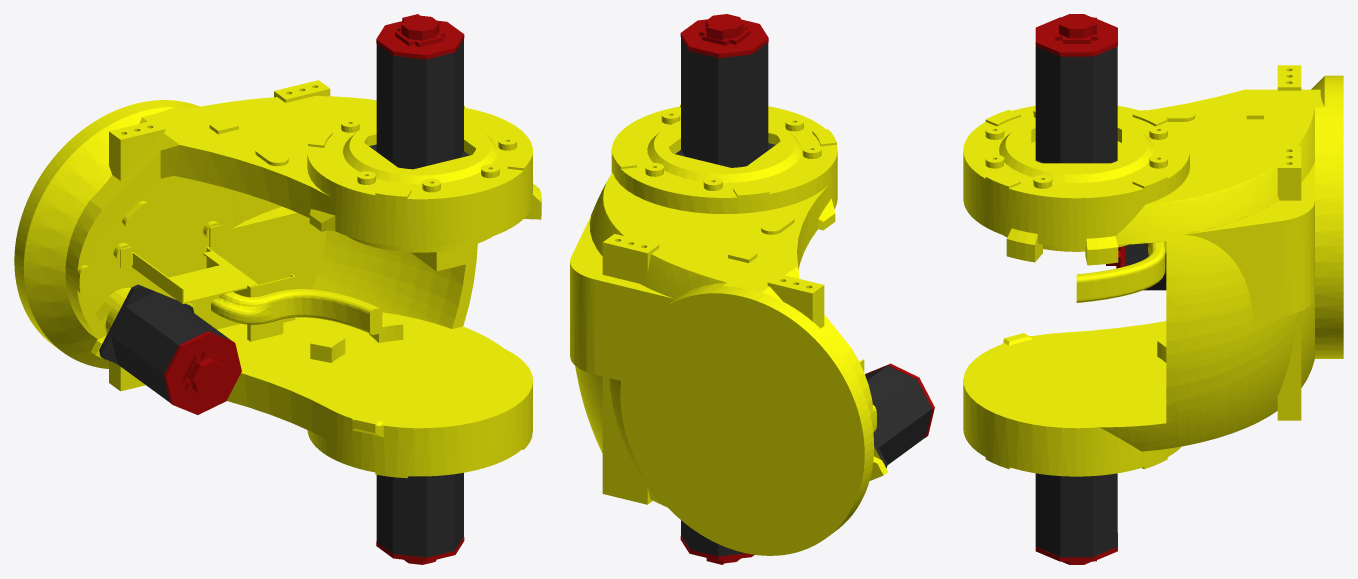
3 renders of one model, left to right at view 1: azimuth 30°, elevation 25°; view 2: azimuth 150°, elevation 25°; view 3: azimuth 270°, elevation 25°, orthographic.
Parts seen in each view (by area): view 1: node; view 2: node; view 3: node.
Part boxes in pixels (x1,y1,x2,y2): node: (14,14,541,564); node: (570,14,934,564); node: (963,14,1343,564).
Bounding box in the file's own units: 927 × 1252 × 805.
